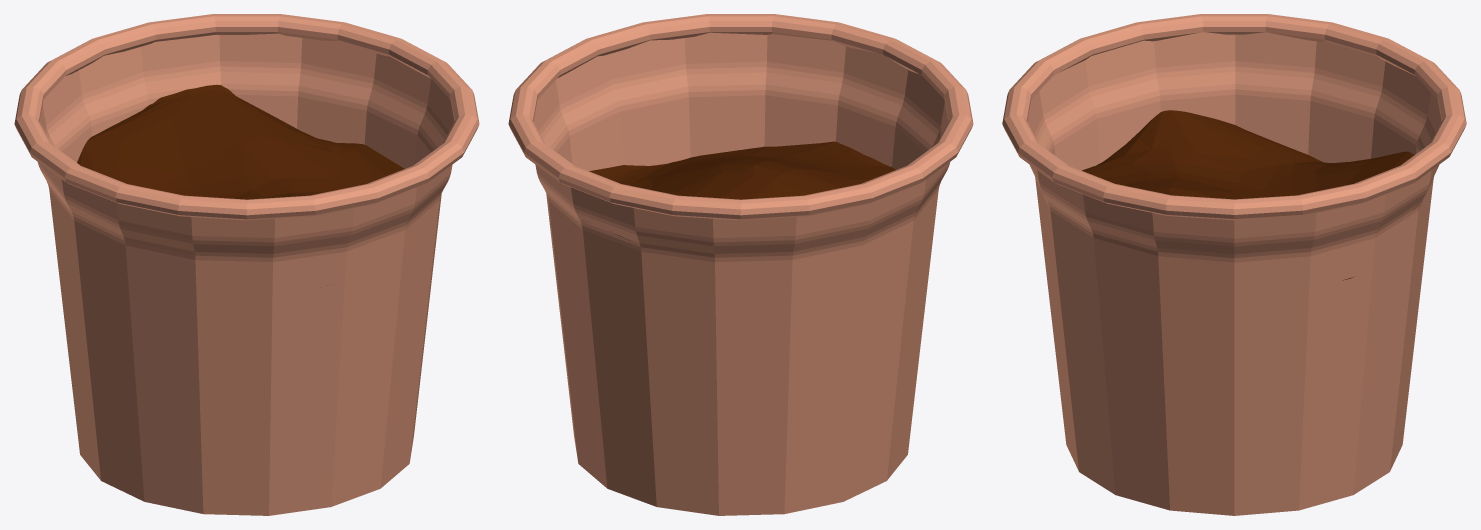
The model's file is Vase_For_Bitsy.fbx.
3 views of the same model, side by side, from view 1: azimuth 30°, elevation 25°; view 2: azimuth 150°, elevation 25°; view 3: azimuth 270°, elevation 25° (orthographic).
Parts seen in each view (by area): view 1: Plane; view 2: Plane; view 3: Plane.
Boxes of the visible parts, x1,y1,x2,y2 form: Plane: (14, 14, 479, 515); Plane: (508, 14, 973, 515); Plane: (1002, 14, 1466, 515).
Size of the model in its own units: 275 by 222 by 276.
